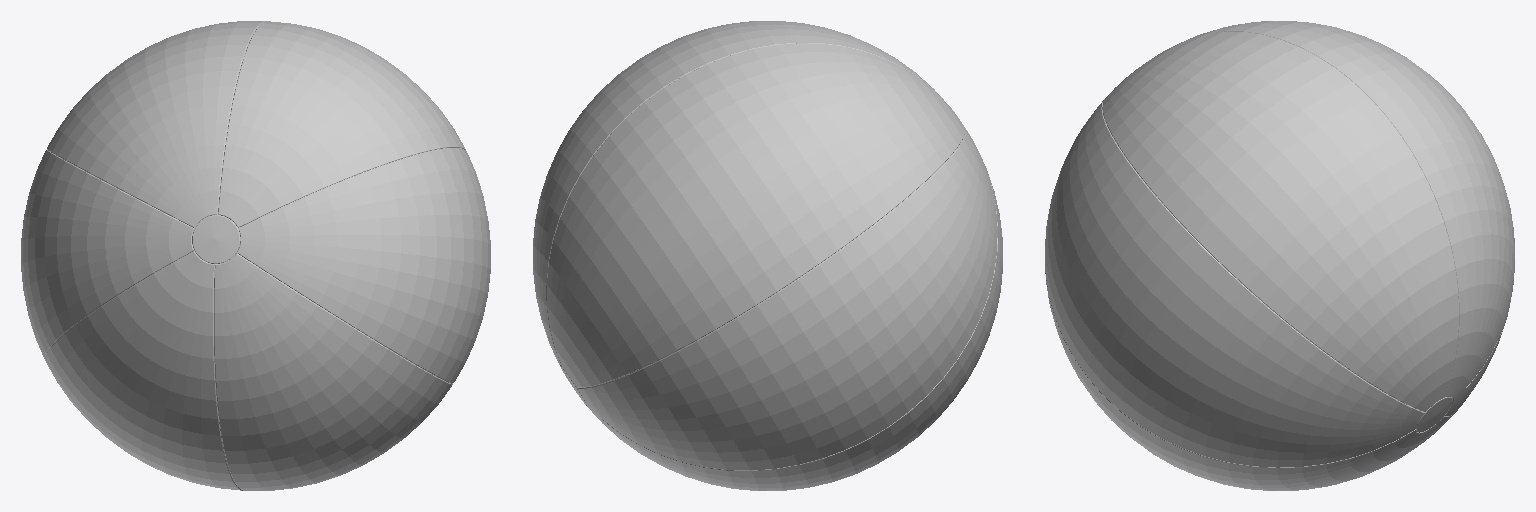
The model's file is ball.obj.
3 renders of one model, left to right at view 1: azimuth 30°, elevation 25°; view 2: azimuth 150°, elevation 25°; view 3: azimuth 270°, elevation 25°, orthographic.
Parts seen in each view (by area): view 1: beachball; view 2: beachball; view 3: beachball.
Boxes of the visible parts, x1=… form: beachball: x1=21, y1=21, x2=490, y2=490; beachball: x1=533, y1=21, x2=1002, y2=490; beachball: x1=1045, y1=21, x2=1514, y2=490.
Size of the model in its own units: 99.91 by 99.92 by 99.98.